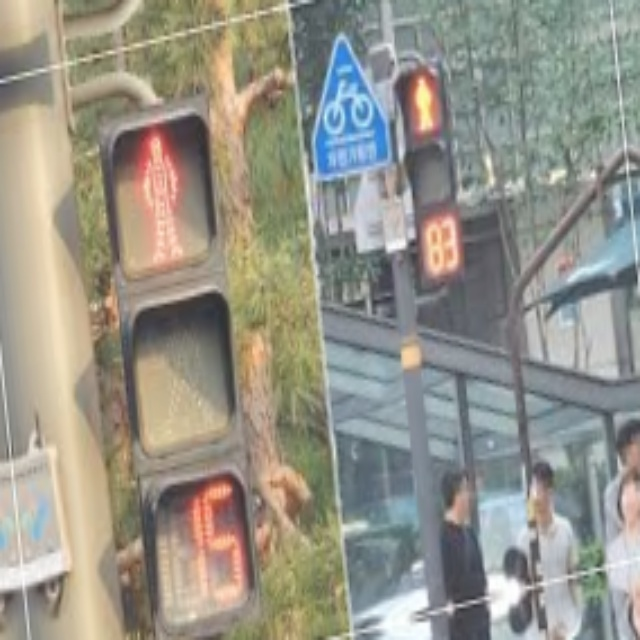red_light: (181, 483, 253, 624), (128, 125, 192, 269), (420, 211, 463, 281), (408, 70, 441, 138)
